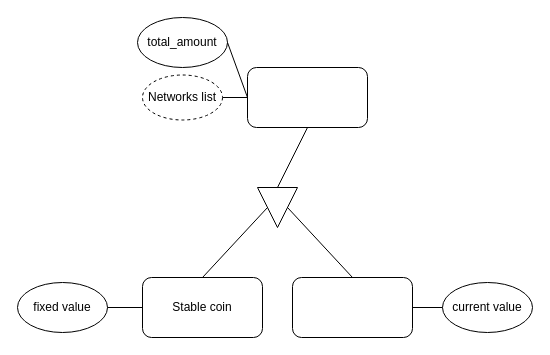
Some shapes in this 550 by 355 pixel diagram are drawn without their labels. The centre of each missing label's shape, as x and y in pixels:
"crypto Currency" goes at (x=307, y=97).
"nonstable currency" goes at (x=352, y=307).
